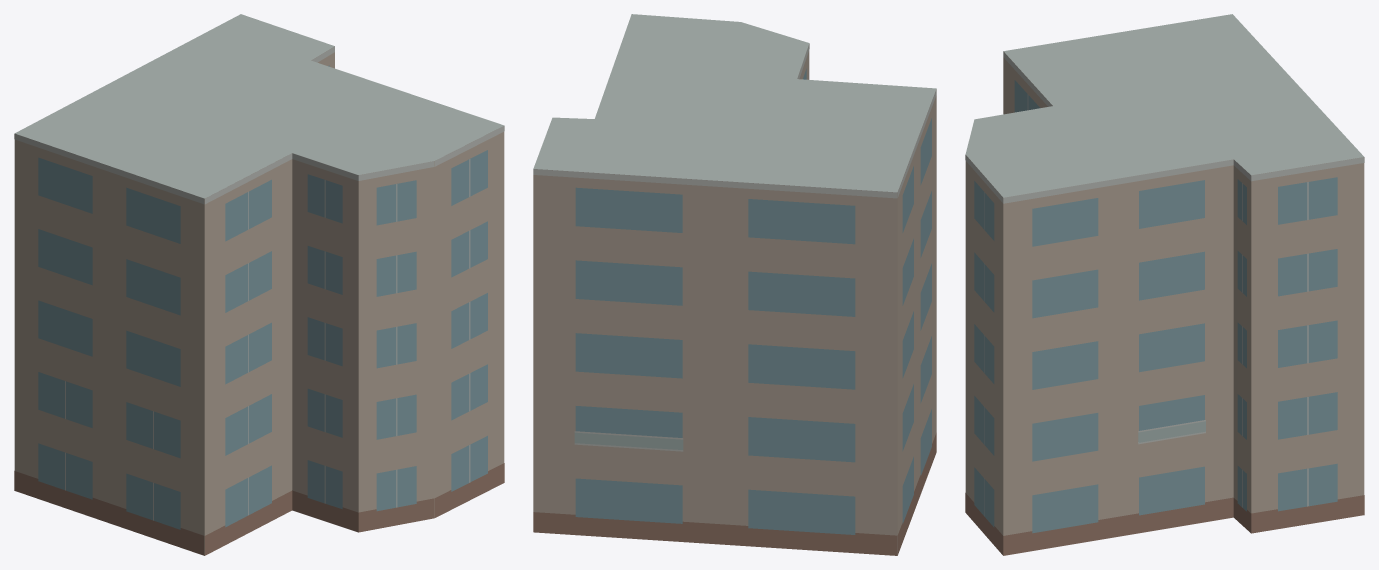
Rendered from survey-upis-32745987.glb.
The picture shows the model from 3 angles, left to right: view 1: azimuth 30°, elevation 25°; view 2: azimuth 150°, elevation 25°; view 3: azimuth 270°, elevation 25°; orthographic projection.
Parts seen in each view (by area): view 1: survey-upis-32745987.tmp; view 2: survey-upis-32745987.tmp; view 3: survey-upis-32745987.tmp.
Boxes of the visible parts, x1,y1,x2,y2 form: survey-upis-32745987.tmp: (14,14,504,555); survey-upis-32745987.tmp: (533,14,936,555); survey-upis-32745987.tmp: (965,14,1364,555).
Bounding box in the file's own units: 16.19 × 14.7 × 14.85.
